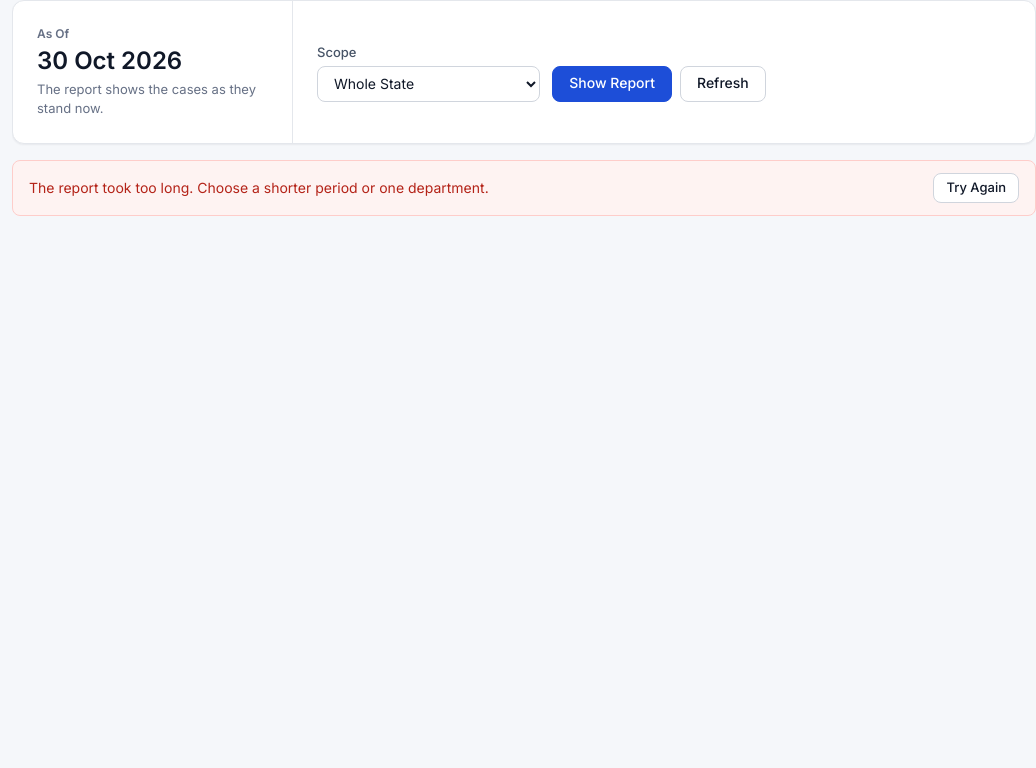
it: downloads › a 503 shows the message with Try again and no download
This screenshot has width=1036, height=768.
Expected: the text "The report took too long. Choose a shorter period or one department." is shown, [29,177,489,198]
Expected: the link "Download Excel" is not shown
Click the button "Try Again": (976, 188) [933,173,1019,203]
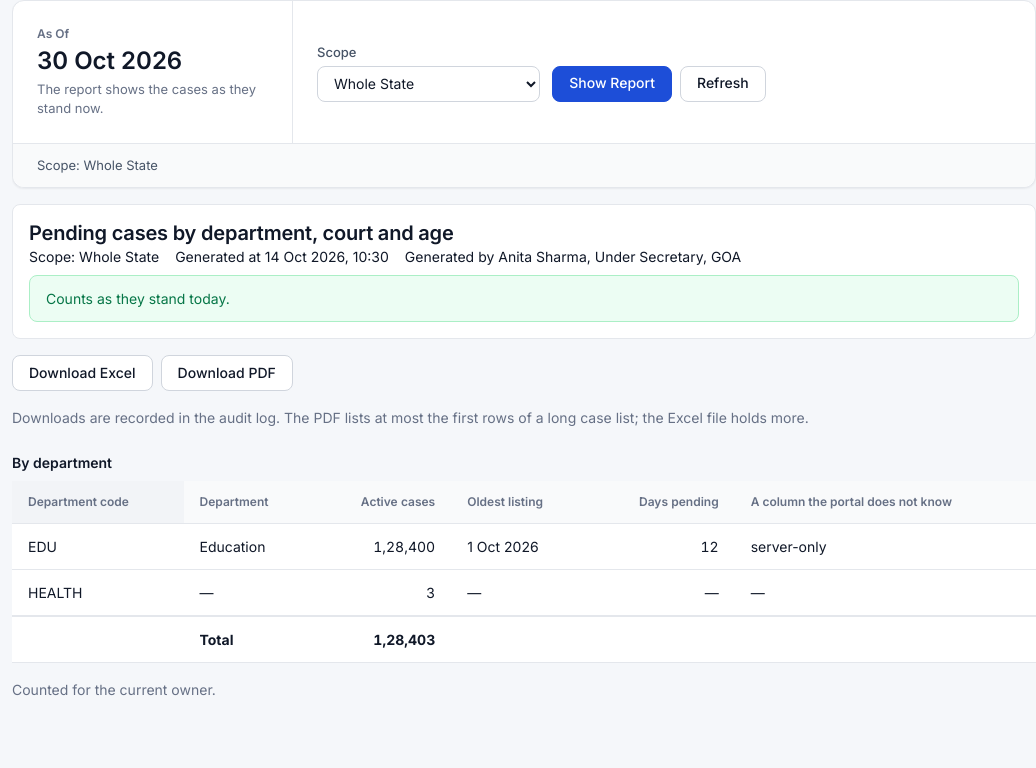
Now the link "Download Excel" is shown, box [12,355,153,391]
